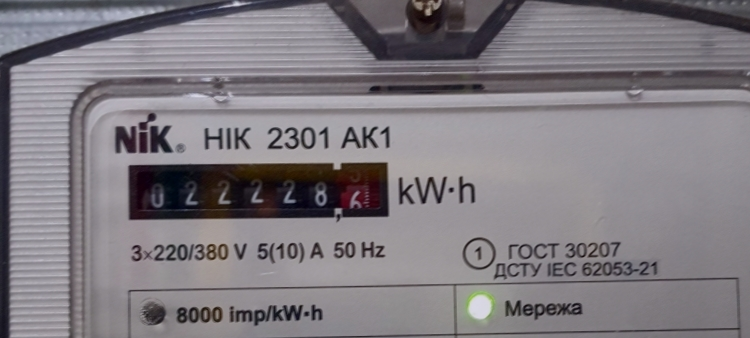0: (149, 178, 165, 207)
2: (182, 175, 200, 205), (281, 175, 298, 204), (248, 174, 265, 202), (216, 175, 232, 204)
5: (347, 162, 363, 182)
6: (347, 185, 364, 206)
8: (313, 177, 328, 205)
screen: (120, 148, 398, 227)
